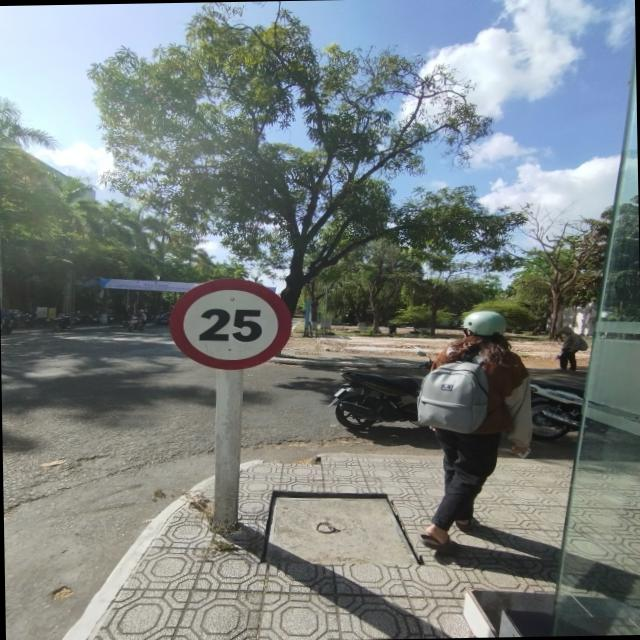Tre_Em: (167, 275, 293, 373)
